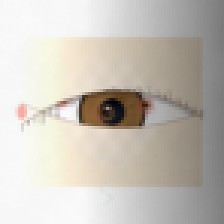foreign_body_visible: (83, 94, 131, 133)
